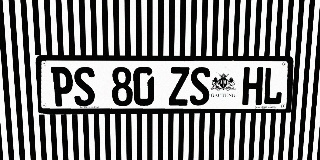0: (133, 67, 154, 106)
8: (111, 67, 133, 106)
H: (242, 67, 264, 105)
L: (262, 67, 284, 105)
P: (51, 67, 74, 106)
S: (73, 67, 95, 106), (189, 67, 211, 106)
Z: (169, 67, 189, 106)
